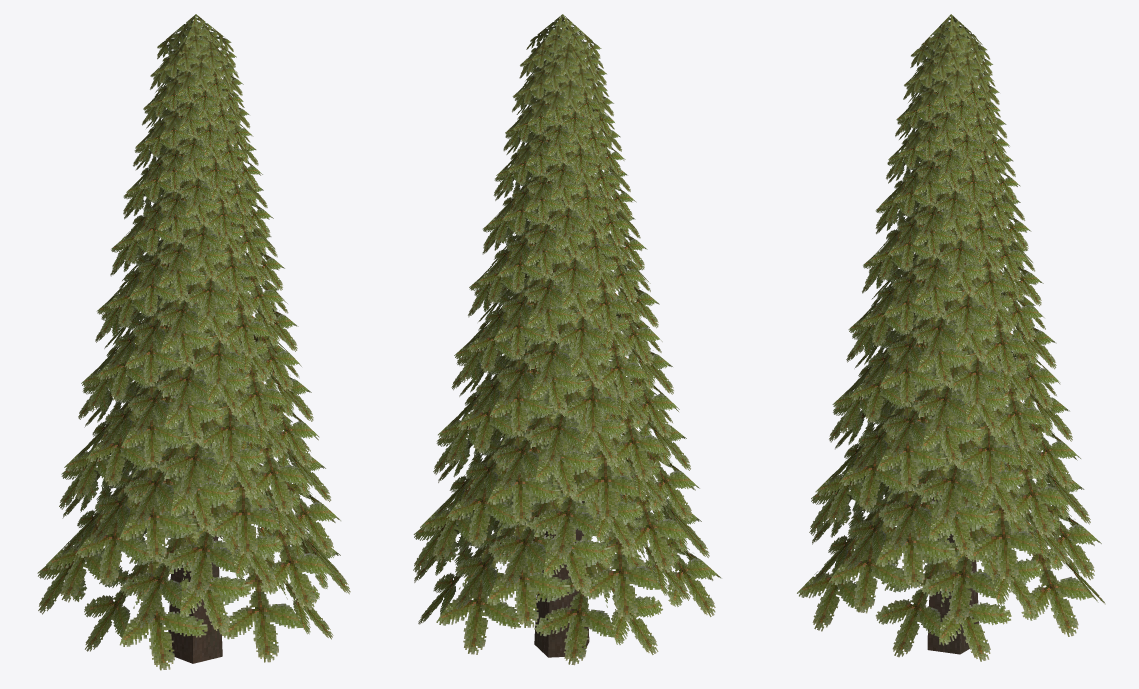
Rendered from Tree.glb.
3 renders of one model, left to right at view 1: azimuth 30°, elevation 25°; view 2: azimuth 150°, elevation 25°; view 3: azimuth 270°, elevation 25°, orthographic.
Parts seen in each view (by area): view 1: Tree; view 2: Tree; view 3: Tree.
Part boxes in pixels (box(x1,y1,x2,y2)): Tree: box(37, 14, 350, 670); Tree: box(413, 14, 721, 665); Tree: box(797, 14, 1105, 661).
Bounding box in the file's own units: 5.99 × 12 × 6.06.
Materials: 2 (2 with a texture image).
